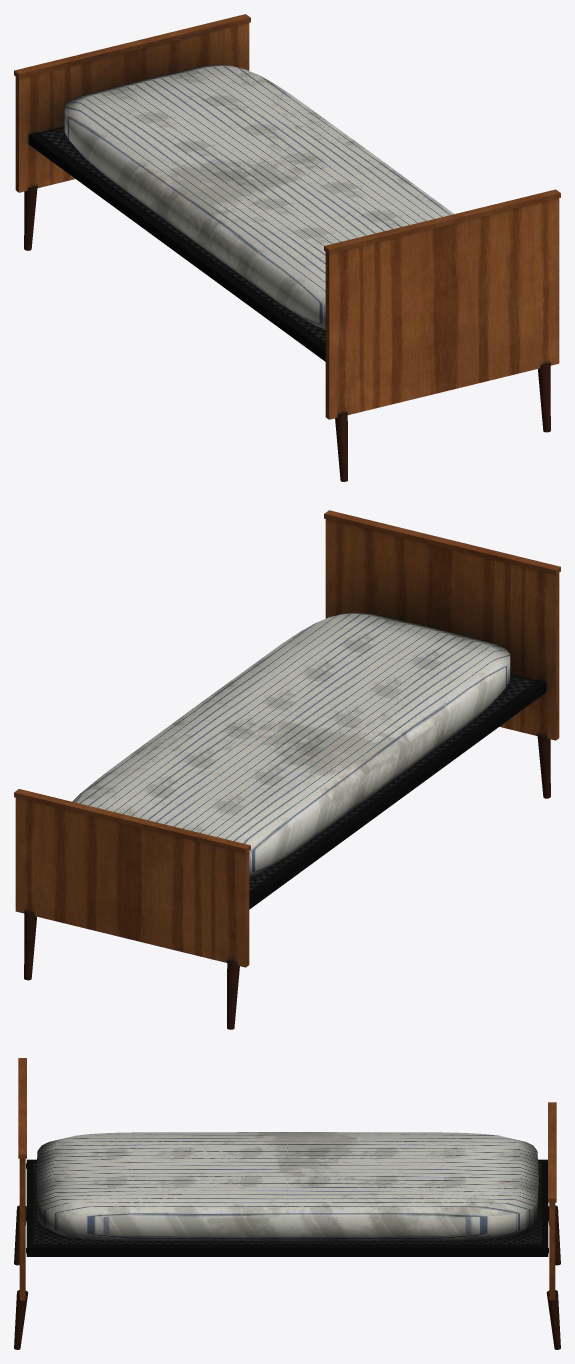
Rendered from bed_pine_metal_web.glb.
The picture shows the model from 3 angles, top to bottom: view 1: azimuth 30°, elevation 25°; view 2: azimuth 150°, elevation 25°; view 3: azimuth 270°, elevation 25°; orthographic projection. The views are drawn at different scales.
Parts seen in each view (by area): view 1: BedPineMetal_Mesh; view 2: BedPineMetal_Mesh; view 3: BedPineMetal_Mesh.
Part boxes in pixels (box(x1,y1,x2,y2)): BedPineMetal_Mesh: box(14, 14, 560, 481); BedPineMetal_Mesh: box(14, 510, 560, 1029); BedPineMetal_Mesh: box(14, 1058, 560, 1349).
Size of the model in its own units: 0.846 by 0.8171 by 2.02.
Materials: 1 (1 with a texture image).
